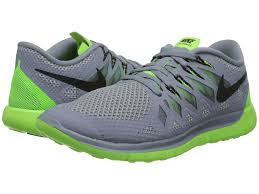nike: (35, 66, 107, 92), (214, 72, 251, 101)
